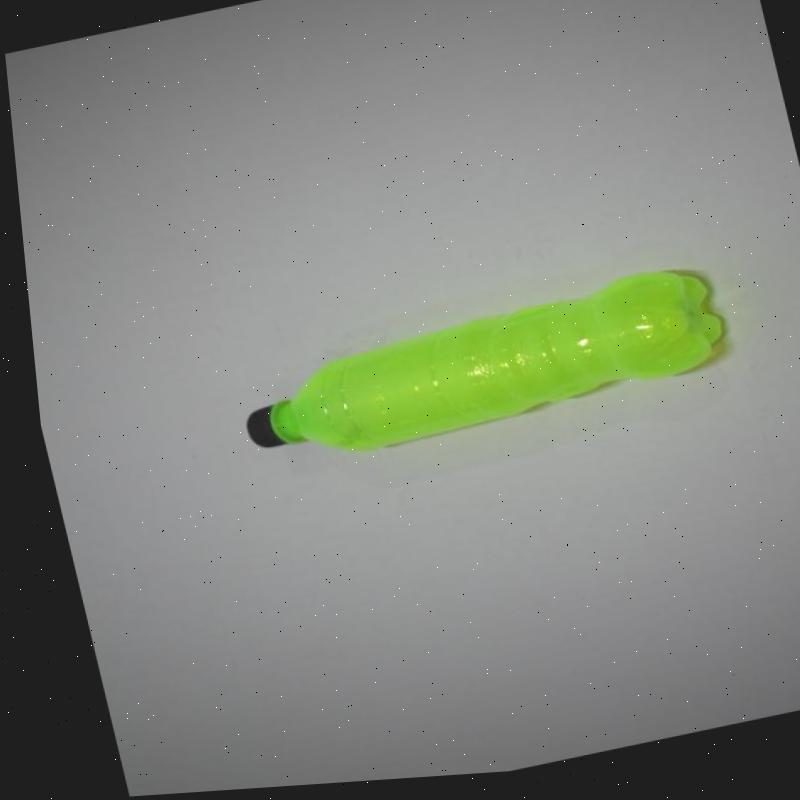botella: (216, 266, 733, 476)
